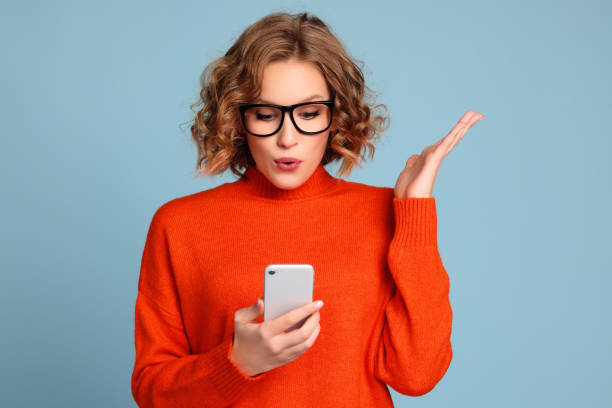without mask: (235, 54, 343, 194)
